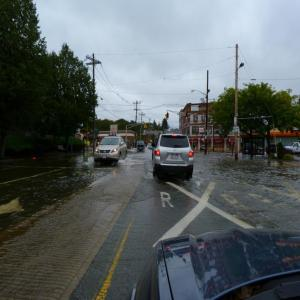Vehicle-registration-plate: (103, 156, 108, 163), (173, 155, 180, 160)
